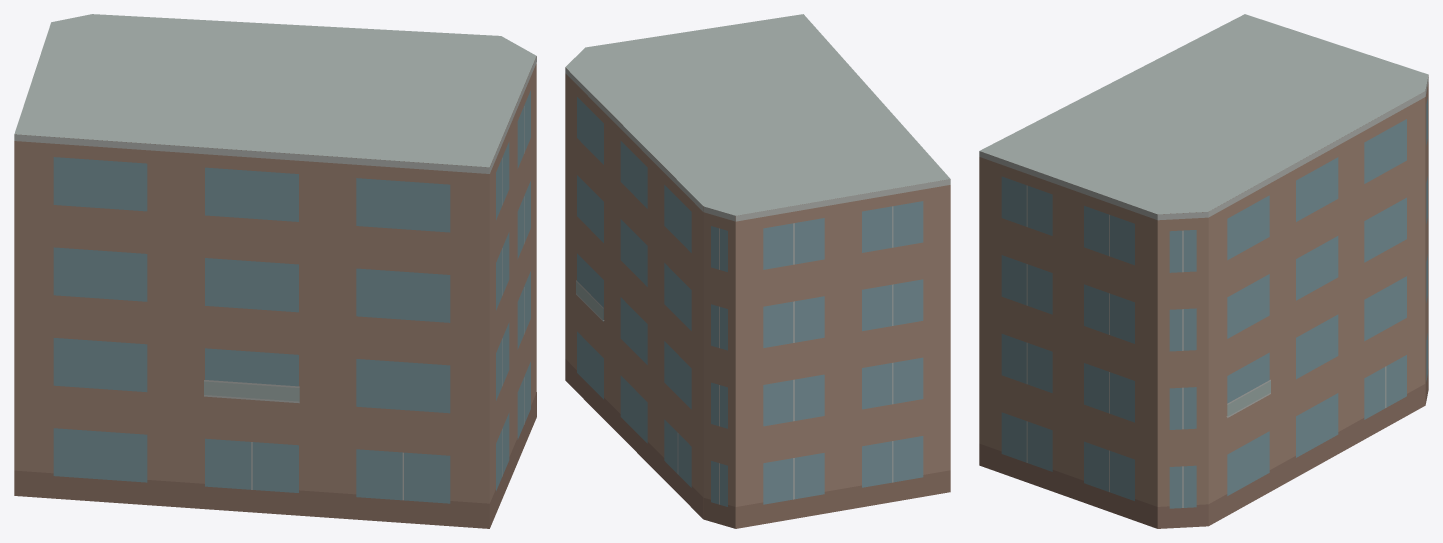
The model's file is survey-upis-32893163.glb.
3 renders of one model, left to right at view 1: azimuth 30°, elevation 25°; view 2: azimuth 150°, elevation 25°; view 3: azimuth 270°, elevation 25°, orthographic. The views are drawn at different scales.
Visible parts, largest first — view 1: survey-upis-32893163.tmp; view 2: survey-upis-32893163.tmp; view 3: survey-upis-32893163.tmp.
Boxes of the visible parts, x1,y1,x2,y2 form: survey-upis-32893163.tmp: [14, 14, 536, 528]; survey-upis-32893163.tmp: [565, 14, 950, 528]; survey-upis-32893163.tmp: [979, 14, 1428, 528].
Bounding box in the file's own units: 17.98 × 13.15 × 17.04.
